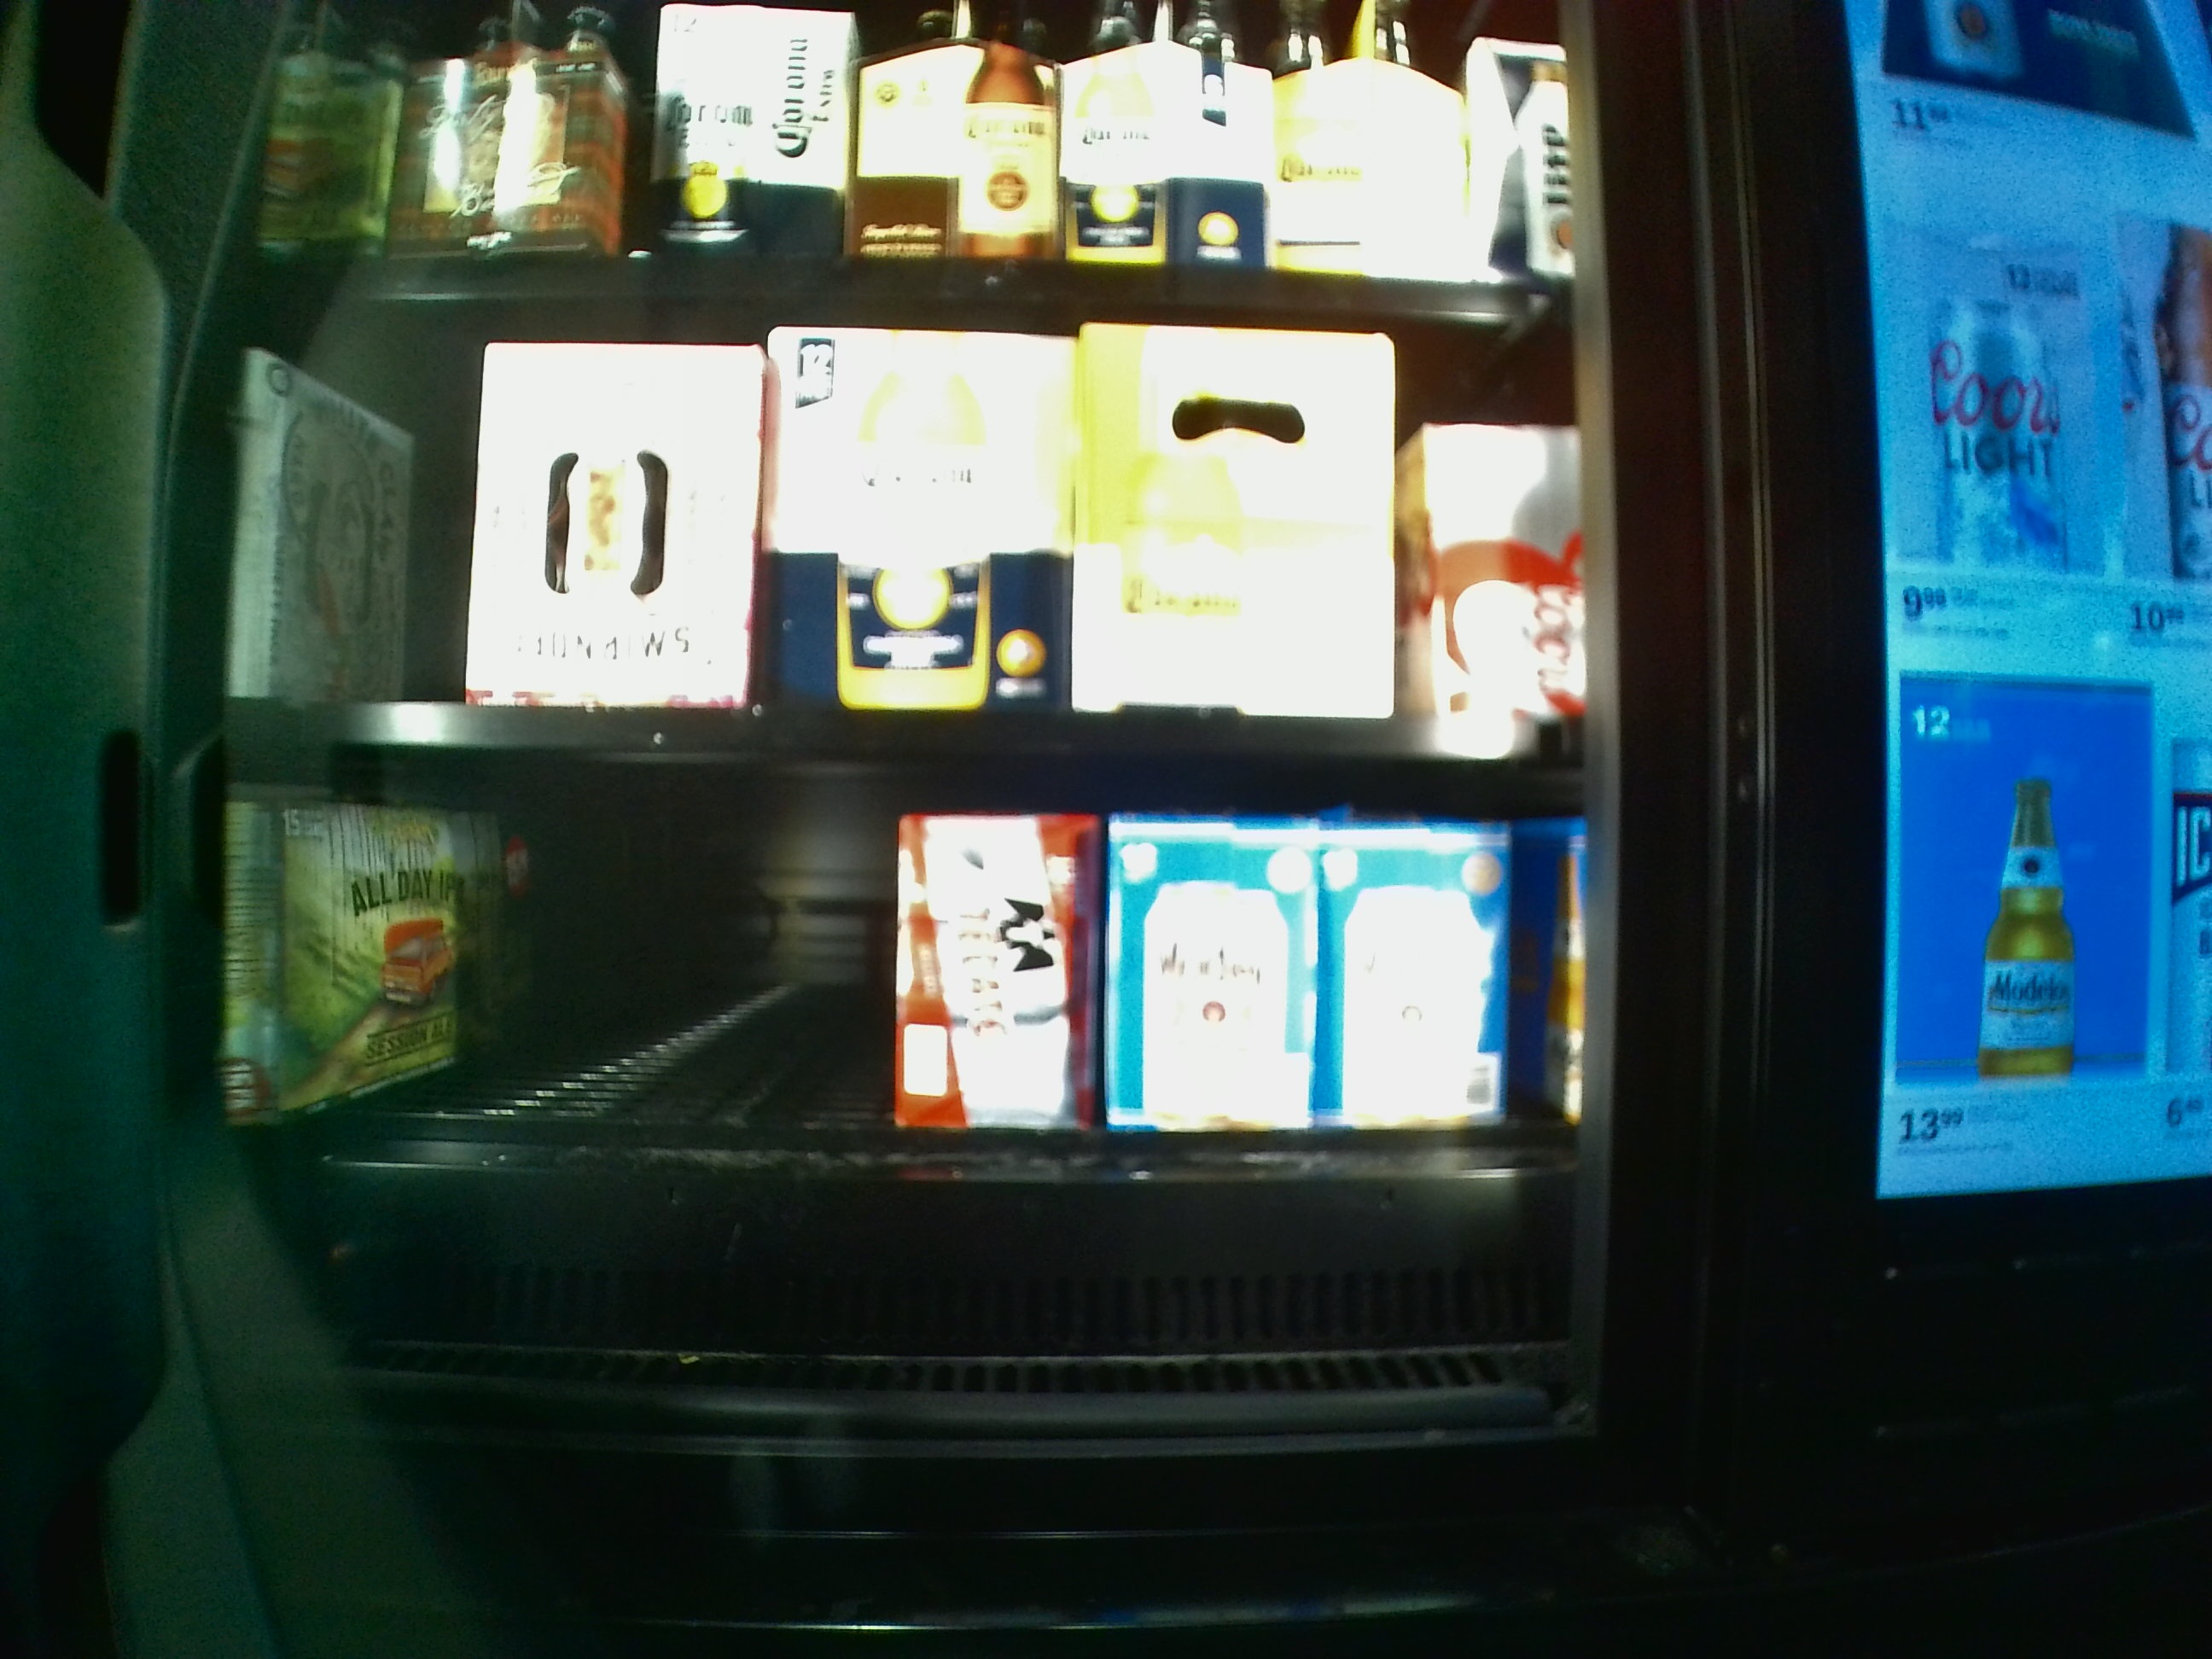shelf: (225, 788, 1575, 1434), (228, 301, 1564, 774)
